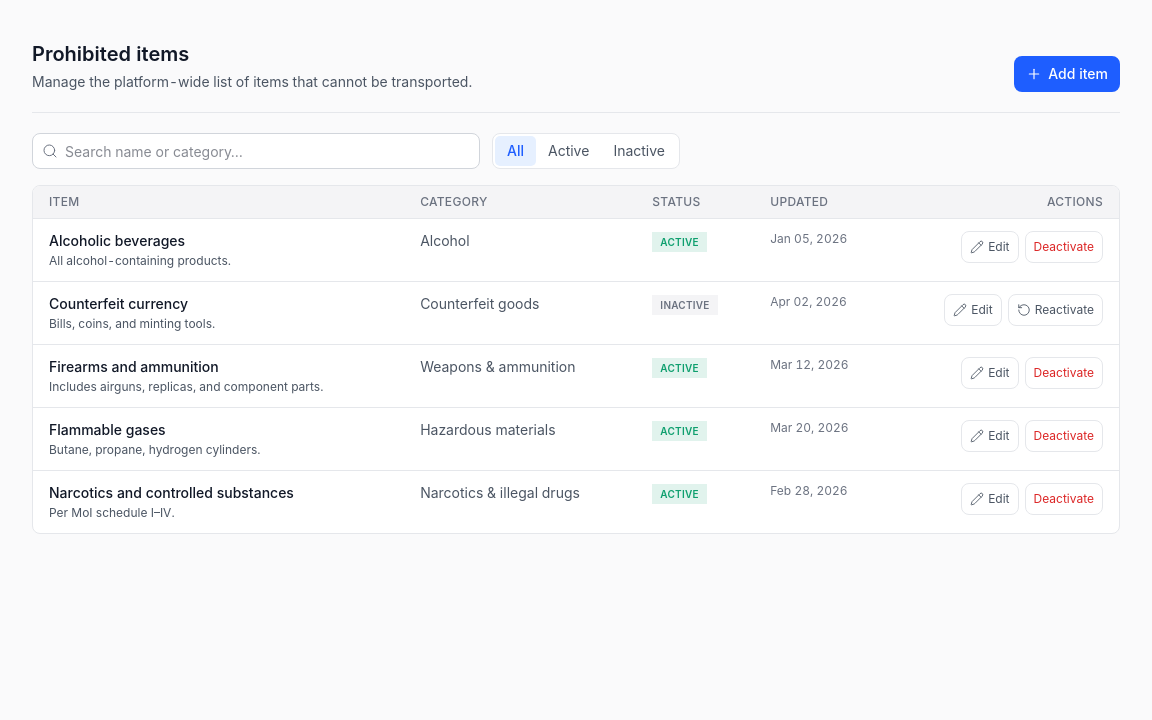
Test: <ProhibitedItemsPage /> › edits an existing item
Step 1. Click the button named "edit firearms and ammunition" → (990, 373), box x1=961 y1=357 x2=1019 y2=389
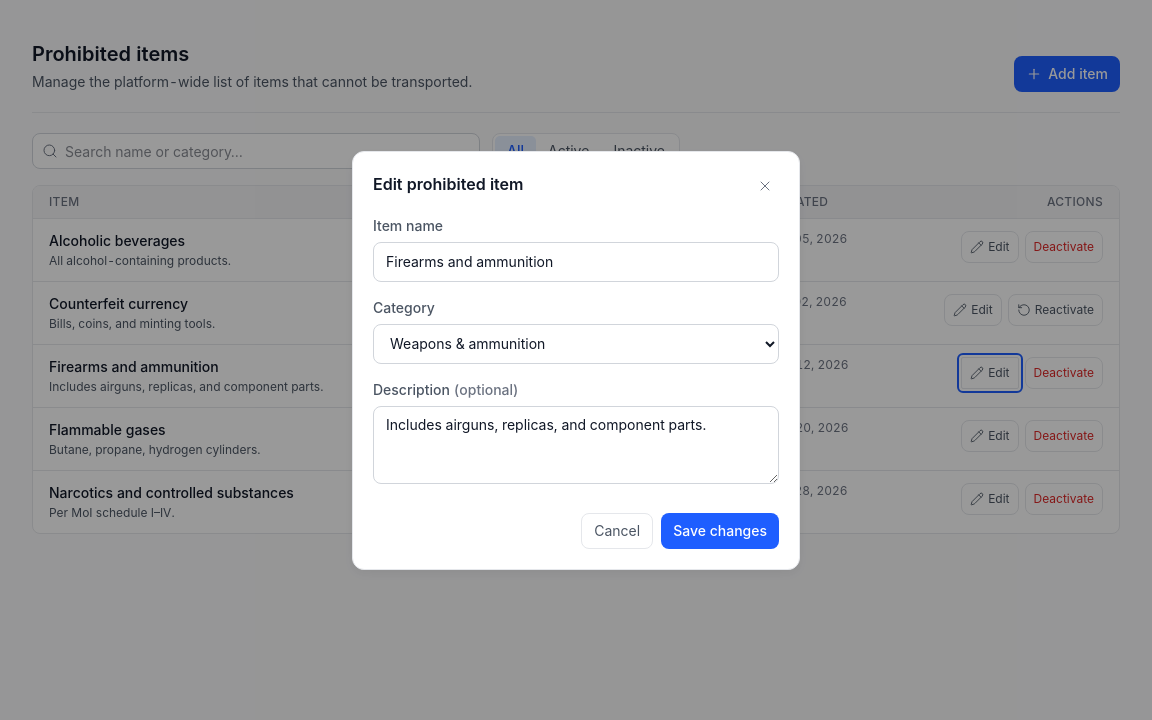
Step 2. Replace the text in the field labelled "Item name" with "Firearms (all types)" → (576, 262), box x1=373 y1=242 x2=779 y2=282
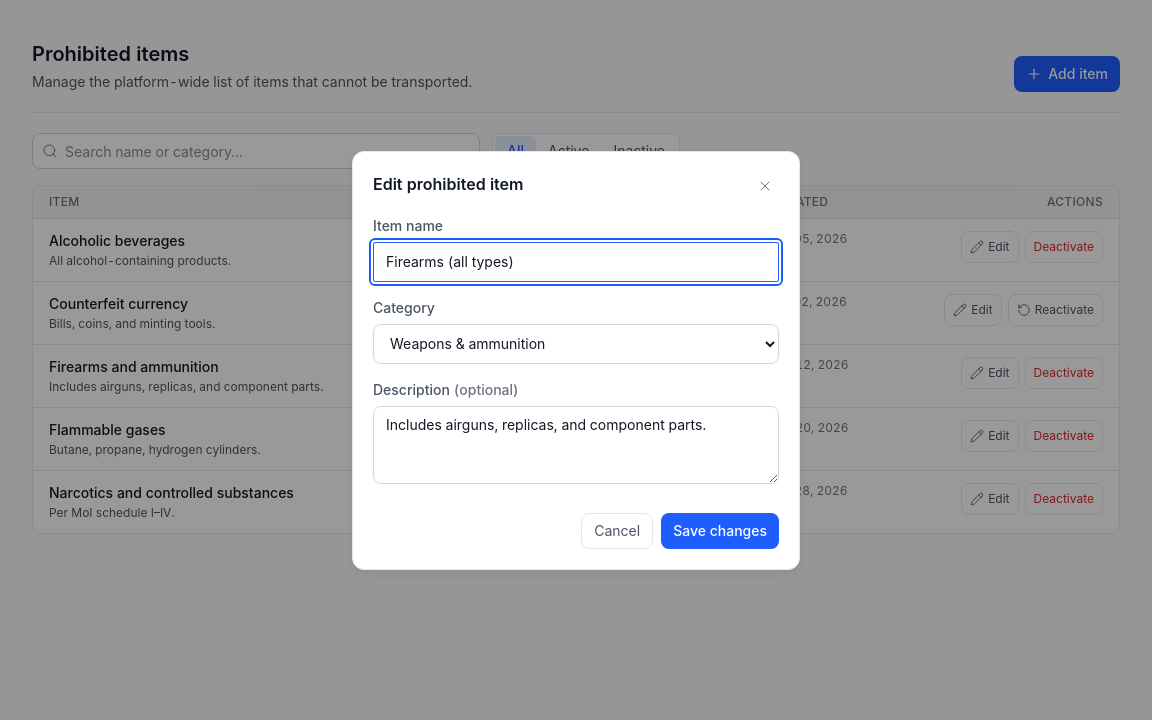
Step 3. Click the button "Save changes" → (720, 530), box x1=661 y1=512 x2=779 y2=548
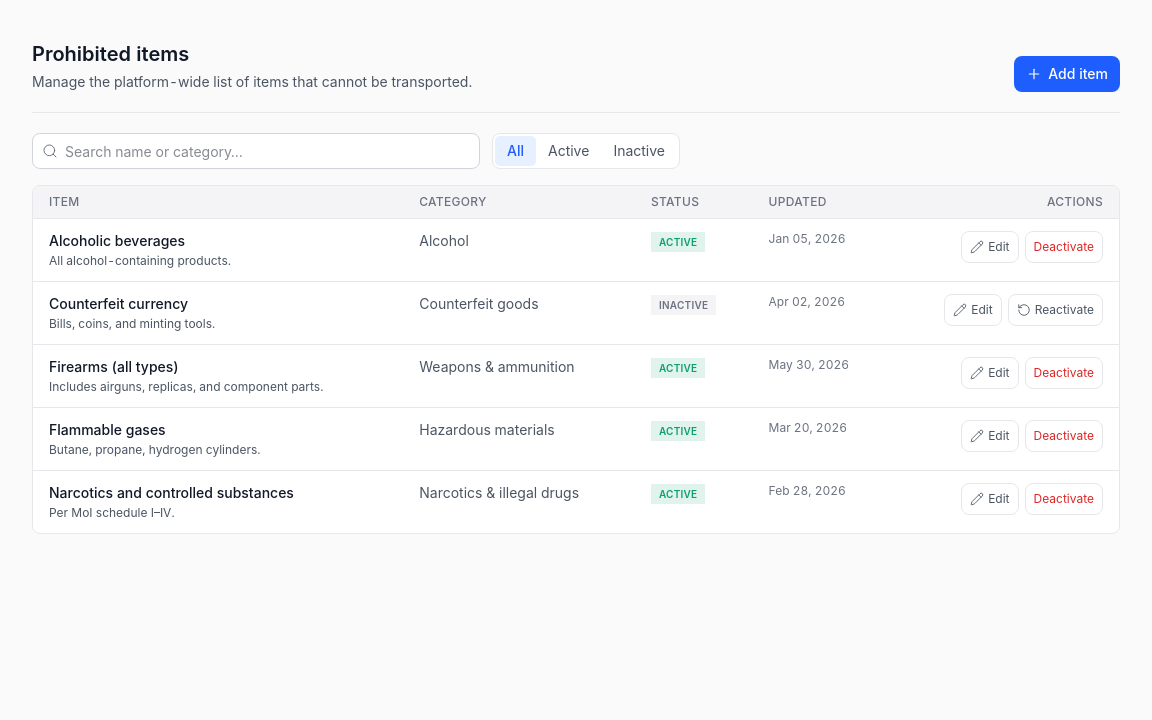
Now the text "Firearms (all types)" is shown, box x1=49 y1=358 x2=179 y2=375
Now the text "Firearms and ammunition" is gone
